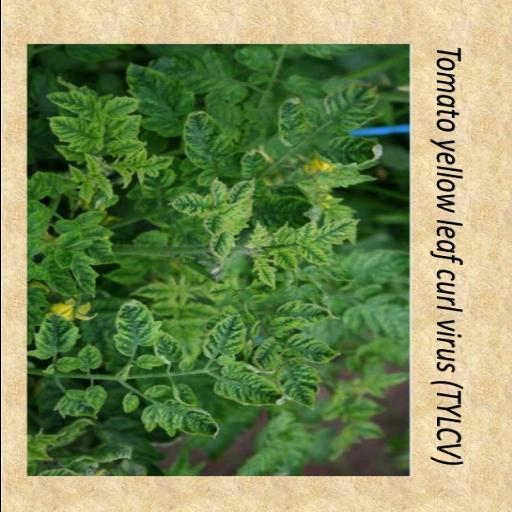Yellow Leaf Curl Virus: (122, 59, 202, 145), (176, 108, 242, 168), (205, 362, 280, 408), (110, 296, 166, 356), (139, 398, 218, 438), (326, 81, 384, 133), (312, 133, 384, 173), (276, 332, 341, 370), (196, 314, 246, 362), (280, 360, 324, 412), (36, 308, 78, 362), (268, 297, 334, 327), (158, 190, 222, 218), (46, 88, 98, 122), (274, 98, 308, 148), (65, 253, 97, 305), (92, 94, 142, 126), (44, 118, 100, 146), (310, 218, 358, 250), (200, 230, 240, 268), (219, 176, 257, 212), (64, 208, 108, 230), (290, 244, 332, 267), (72, 344, 105, 373), (250, 256, 278, 290), (104, 140, 144, 160), (293, 222, 324, 243)
